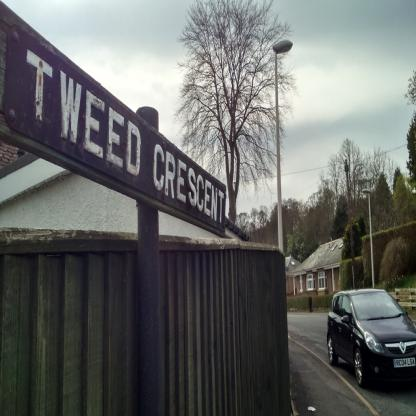Car: (328, 288, 415, 392)
